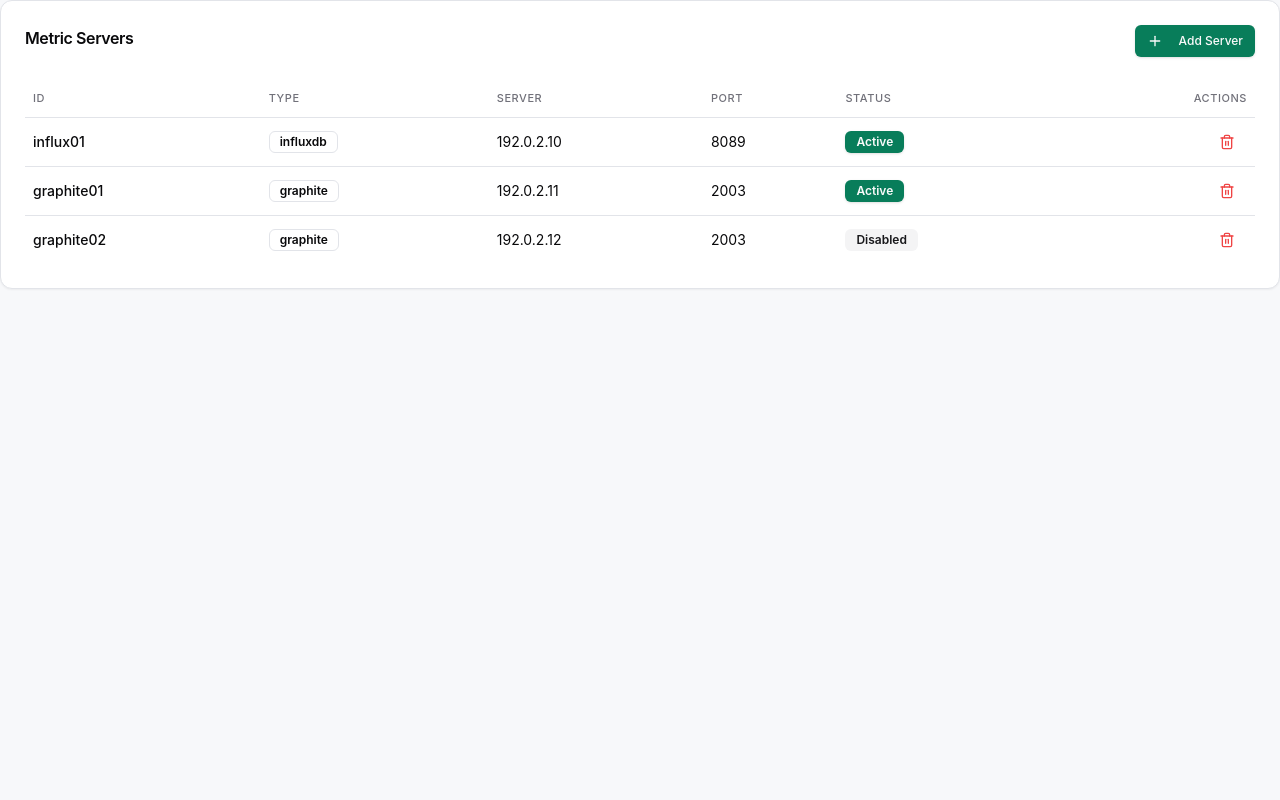
Test: ClusterMetricServersTab — deleting a server › says a disabled server is not being sent metrics now
Click the button named "Delete graphite02" at (1227, 240), box [1207,224,1247,256]
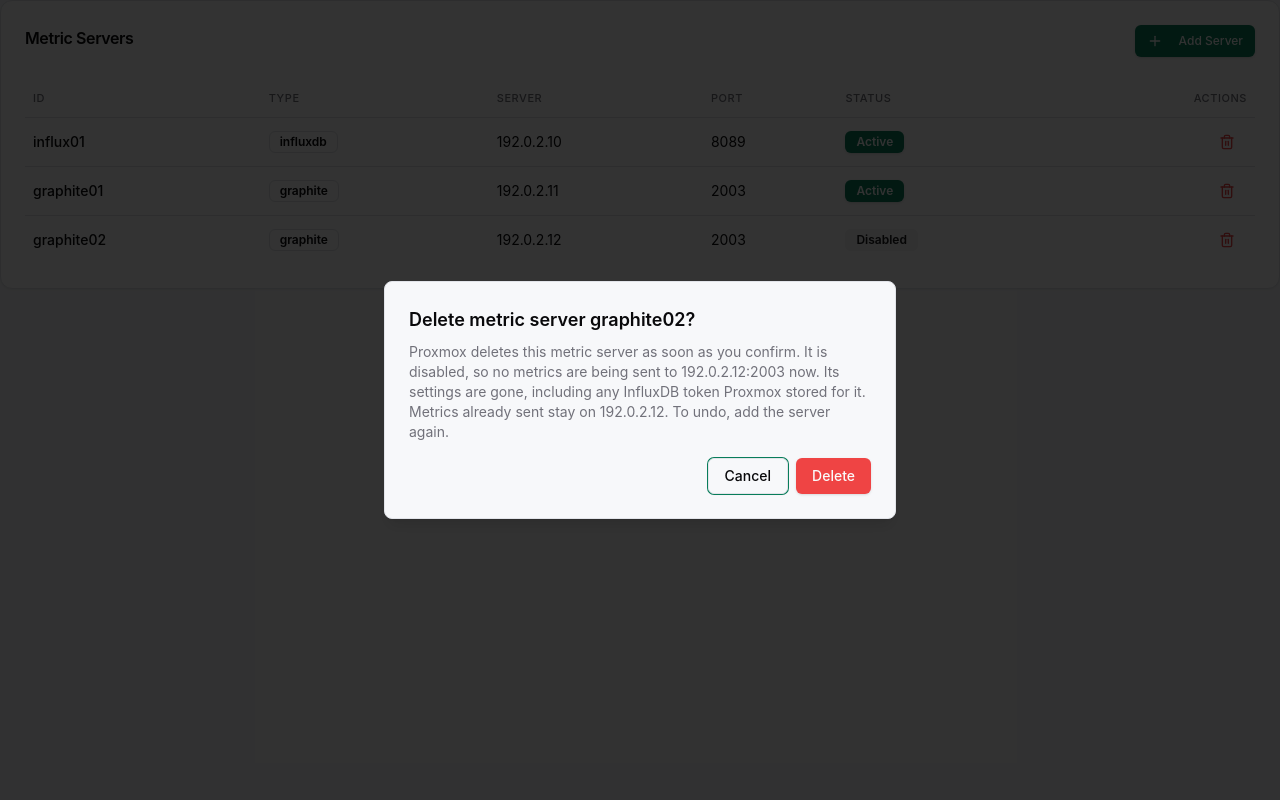
Expected: the dialog does not show "stops sending", [384,281,896,519]
Expected: the dialog shows "It is disabled, so no metrics are being sent to 192.0.2.12:2003 now.", [409,343,866,440]
